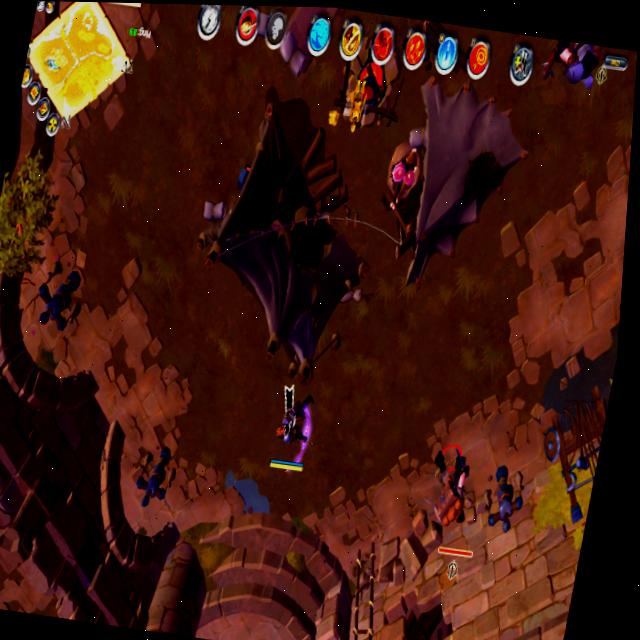ore: (414, 438, 495, 585), (527, 36, 621, 100)
red: (262, 383, 325, 480)
